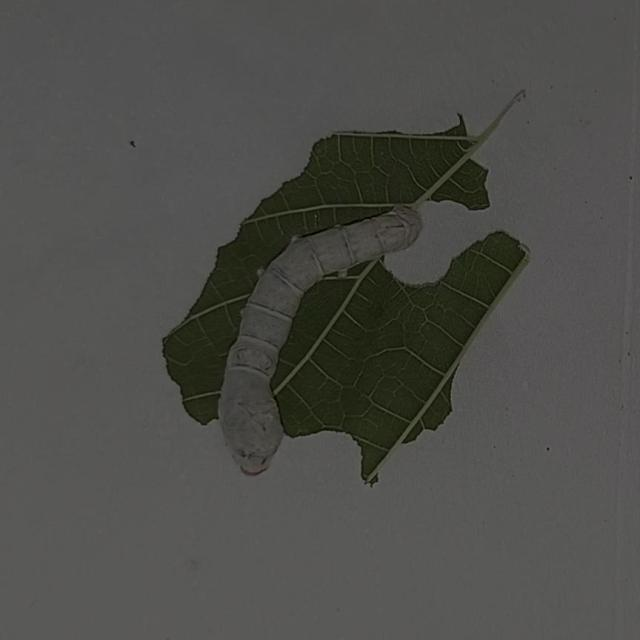Healthy: (187, 170, 472, 504)
